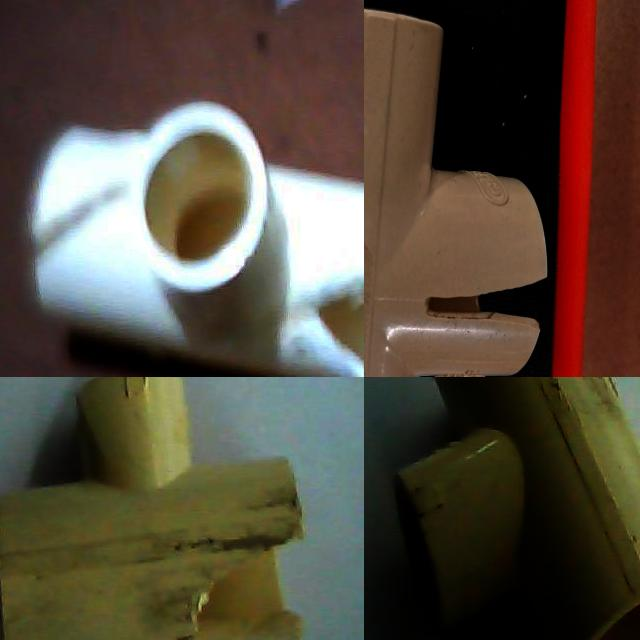Defective: (189, 523, 297, 640), (36, 158, 122, 284), (273, 266, 364, 377), (388, 351, 468, 377)
T Joint: (24, 101, 364, 377), (0, 377, 305, 640), (394, 377, 640, 640), (364, 74, 466, 377), (364, 66, 455, 377), (476, 242, 489, 377)
